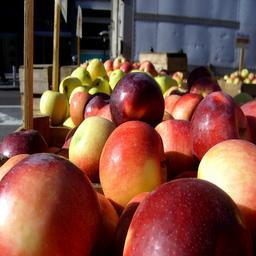apple: (120, 178, 253, 256), (1, 151, 99, 256), (97, 120, 166, 209), (196, 136, 256, 223), (190, 92, 252, 159), (107, 71, 165, 127), (66, 116, 115, 181), (154, 122, 196, 168)
